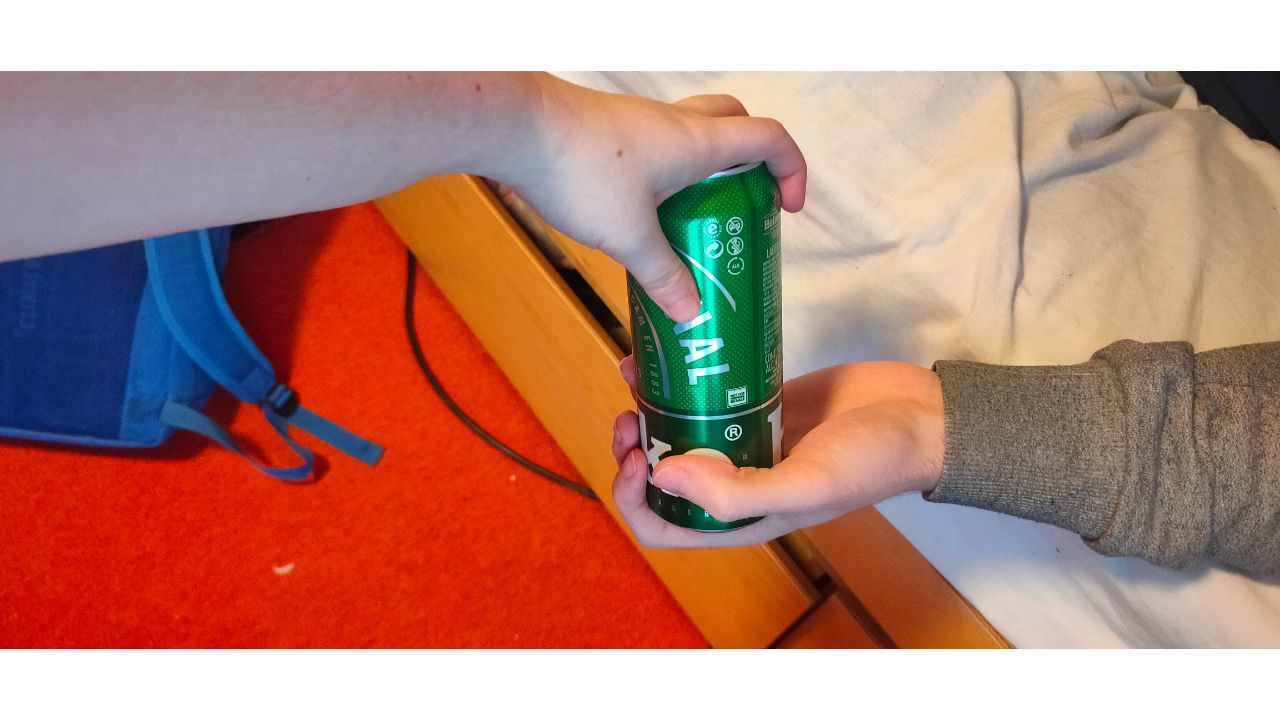Can: (623, 155, 784, 536)
